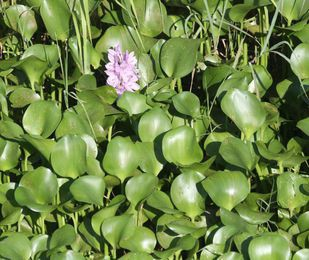water_hyacinth: (1, 1, 309, 260)
